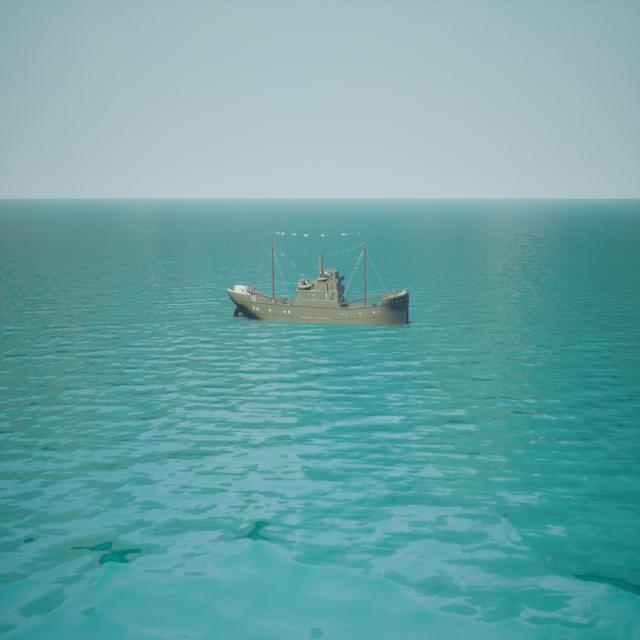fishing ship: (228, 235, 409, 328)
